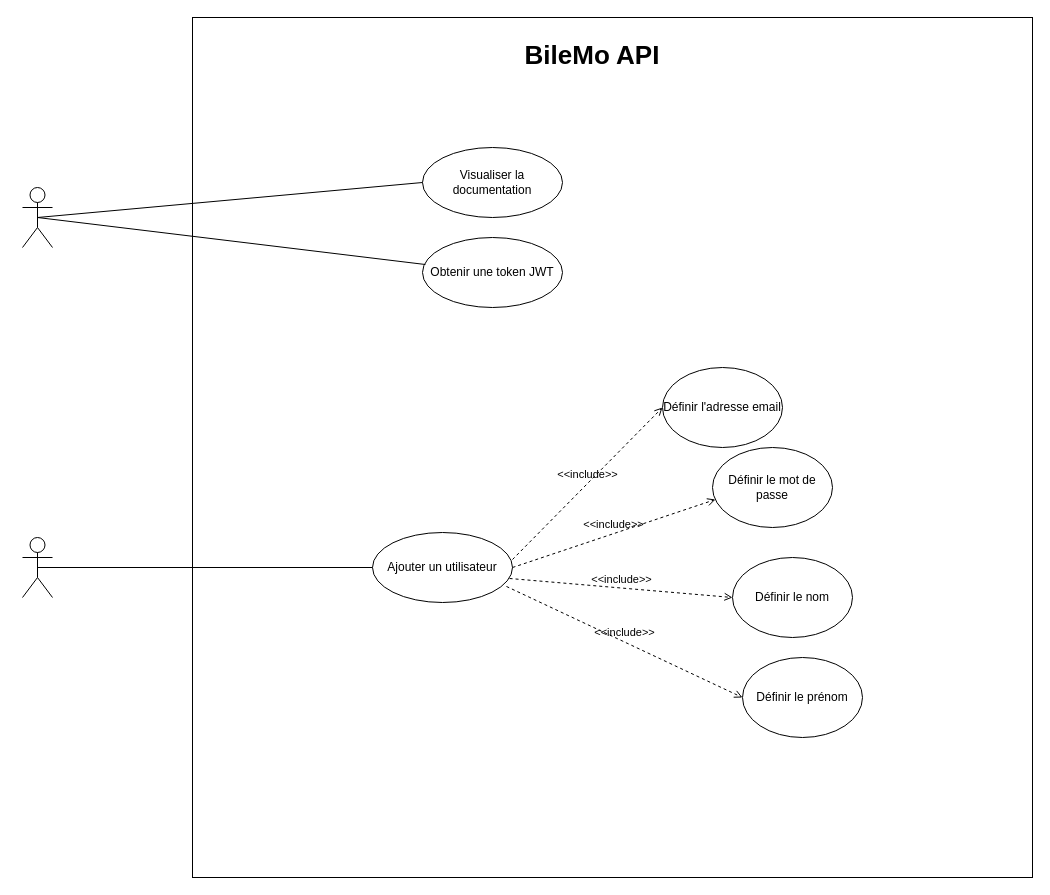
Image size: 1050x895. Some labels were removed from this diagram. The box of each missing label's shape, as (x1, y1, x2, y2) in pixels:
Client: (22, 536, 52, 598)
Visiteur: (22, 186, 52, 248)
